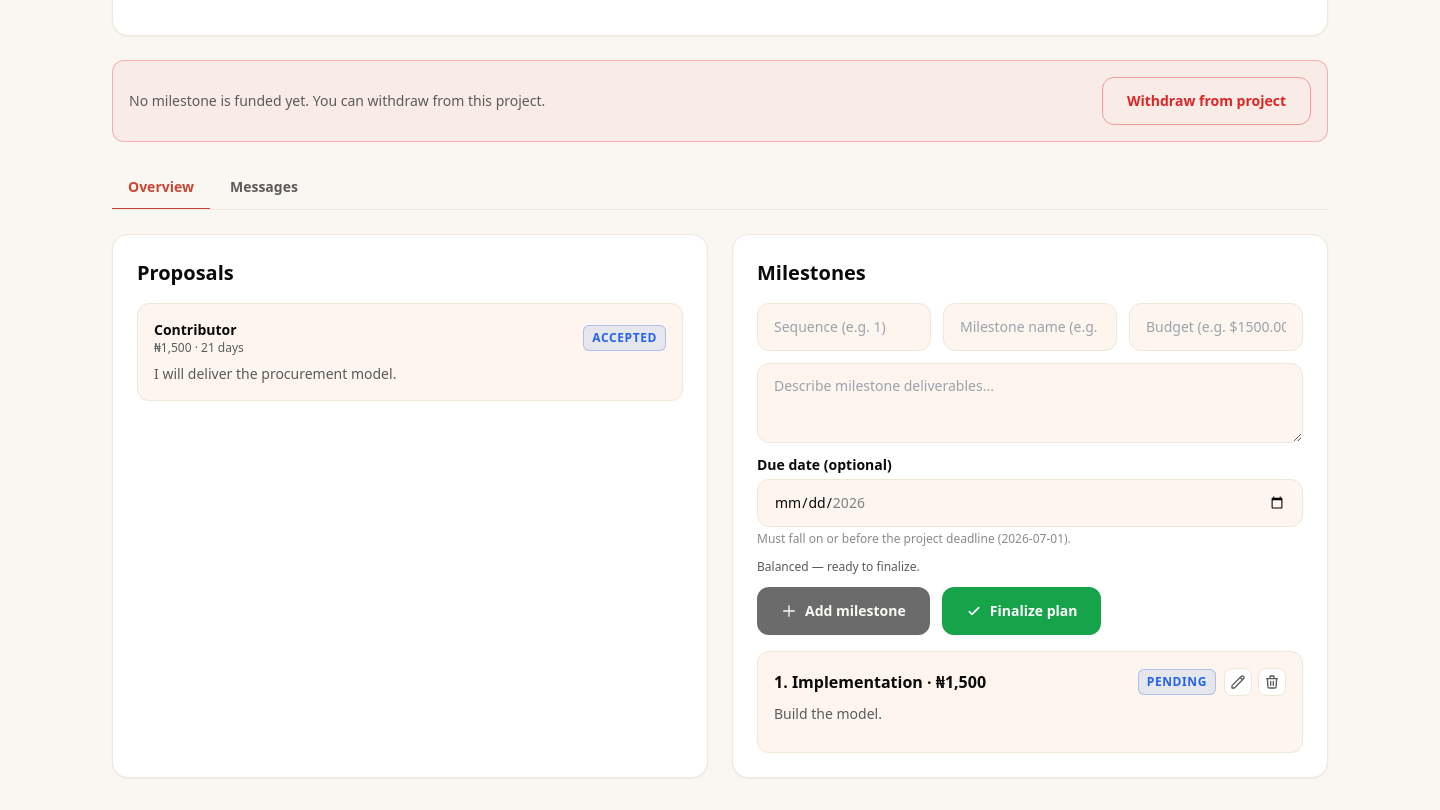
ProjectWorkspace › labels the milestone budget in the Project's own currency
The image size is (1440, 810).
(page scrolled)
Click the button named "edit milestone": point(1238, 682) 1224,668 -> 1252,696
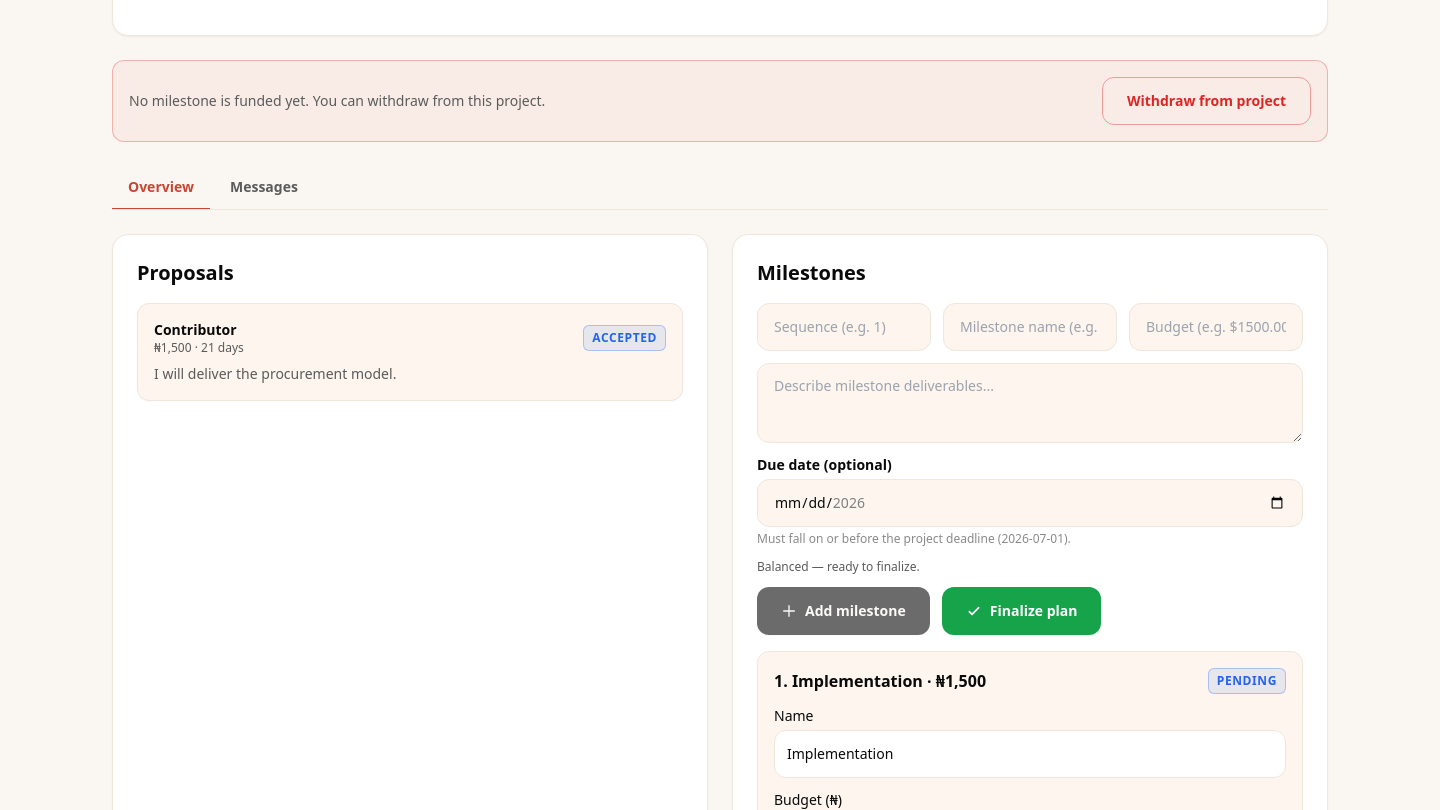
Expected: the text "Budget (₦)" is shown, 774,790 -> 842,809
